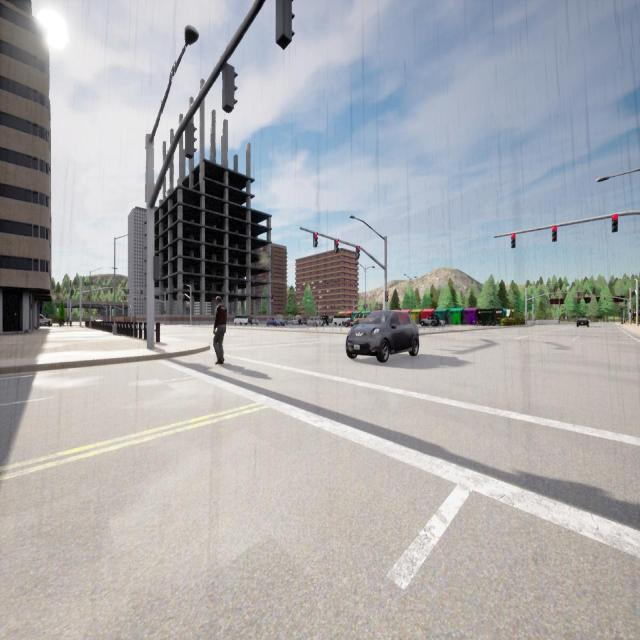Pedestrian: (213, 296, 227, 364)
Traffic_Signs: (565, 317, 567, 319)
Vehicle: (346, 310, 419, 362), (421, 316, 438, 326), (354, 314, 369, 324), (333, 315, 347, 325), (40, 314, 51, 326), (235, 315, 248, 325), (576, 317, 588, 327), (267, 320, 284, 326), (307, 318, 319, 326), (321, 316, 328, 326), (251, 318, 258, 326), (346, 320, 354, 326), (287, 320, 293, 324)
traffic_light: (276, 0, 295, 50), (222, 64, 238, 112), (185, 124, 197, 160), (154, 256, 161, 280), (612, 215, 618, 232), (511, 234, 516, 248), (552, 226, 556, 242), (314, 232, 318, 246), (356, 246, 360, 259), (334, 240, 338, 252), (385, 292, 388, 302), (124, 295, 126, 299), (164, 309, 166, 313), (629, 309, 631, 313), (590, 296, 592, 299), (135, 297, 136, 301), (578, 296, 580, 298), (604, 296, 605, 300)
